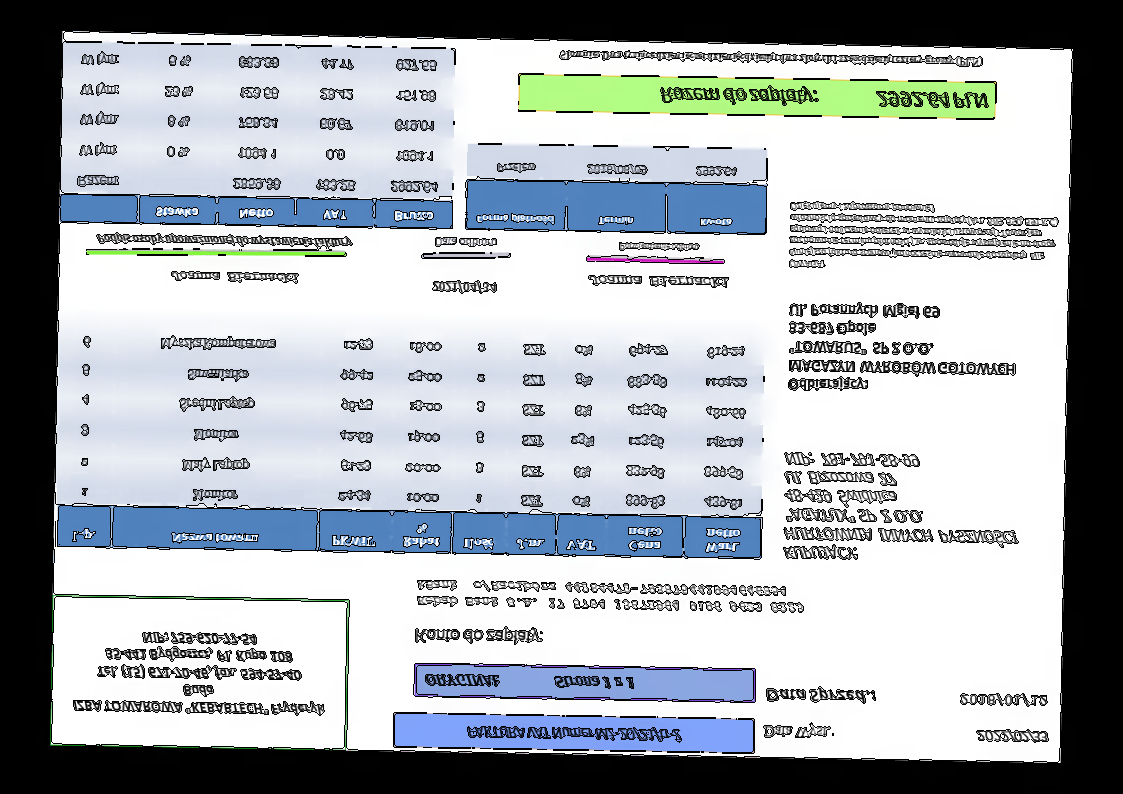Table: (55, 322, 766, 560), (60, 41, 457, 230), (465, 142, 768, 235)
TextBox: (781, 449, 1021, 566), (71, 627, 328, 718), (786, 299, 1018, 397), (787, 199, 1061, 276), (415, 576, 807, 616), (557, 47, 985, 70), (658, 82, 990, 111), (95, 231, 351, 251), (465, 722, 684, 744), (423, 672, 638, 693), (413, 623, 545, 648), (586, 272, 730, 290), (765, 684, 876, 707), (170, 269, 300, 285), (957, 691, 1050, 710), (973, 727, 1051, 745), (761, 723, 835, 741), (430, 277, 498, 296), (618, 240, 701, 254), (432, 235, 497, 249)
